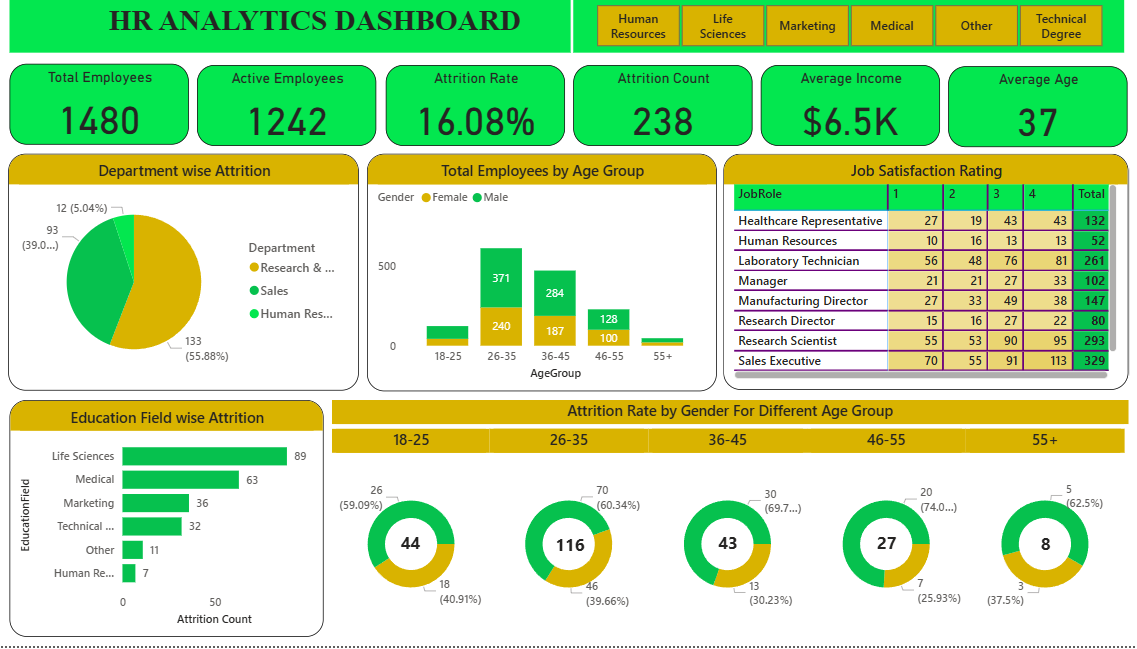

Layout of this report page (visuals, bound fields, positions):
{"tool":"powerbi","page":{"name":"Dashboard","canvas":[1280,720],"ordinal":0},"visuals":[{"type":"textbox","box":[24.7,9.6,616.1,59],"z":0},{"type":"card","title":"Total Employees","fields":{"Values":["HR_Analytics.Total Employees"]},"box":[25,81,197,89.2],"z":1000},{"type":"card","title":"Active Employees","fields":{"Values":["HR_Analytics.Active Employees"]},"box":[230,83,197,89.2],"z":2000},{"type":"card","title":"Attrition Rate","fields":{"Values":["HR_Analytics.Attrition Rate (%)"]},"box":[438,83,197,89.2],"z":3000},{"type":"card","title":"Attrition Count","fields":{"Values":["HR_Analytics.Attrition Count"]},"box":[644,83,197,89.2],"z":4000},{"type":"card","title":"Average Income","fields":{"Values":["HR_Analytics.Average Monthly Income"]},"box":[850,83,197,89.2],"z":5000},{"type":"card","title":"Average Age","fields":{"Values":["HR_Analytics.Average Age"]},"box":[1055,83.7,197,89.2],"z":6000},{"type":"pieChart","title":"Department wise Attrition","fields":{"Category":["HR_Analytics.Department"],"Y":["HR_Analytics.Attrition Count"]},"box":[24,180,385,260],"z":7000},{"type":"barChart","title":"Education Field wise Attrition","fields":{"Category":["HR_Analytics.EducationField"],"Y":["HR_Analytics.Attrition Count"]},"box":[24.7,450,345,260],"z":8000},{"type":"columnChart","title":"Total Employees by Age Group","fields":{"Category":["HR_Analytics.AgeGroup"],"Y":["HR_Analytics.Total Employees"],"Series":["HR_Analytics.Gender"]},"box":[417,180,384.2,260.7],"z":9000},{"type":"donutChart","title":"18-25","fields":{"Category":["HR_Analytics.Gender"],"Y":["HR_Analytics.Attrition Count"],"Series":["HR_Analytics.AgeGroup"]},"box":[378.7,481.6,174,231.9],"z":10000},{"type":"pivotTable","title":"Job Satisfaction Rating","fields":{"Rows":["HR_Analytics.JobRole"],"Values":["HR_Analytics.Total Employees"],"Columns":["HR_Analytics.JobSatisfaction"]},"box":[808.2,180,444.6,259.3],"z":11000},{"type":"textbox","title":"Attrition Rate by Gender For Different Age Group","box":[378.7,450.1,874.1,31.6],"z":12000},{"type":"donutChart","title":"26-35","fields":{"Category":["HR_Analytics.Gender"],"Y":["HR_Analytics.Attrition Count"],"Series":["HR_Analytics.AgeGroup"]},"box":[551.6,481.6,174.3,231.9],"z":13000},{"type":"donutChart","title":"36-45","fields":{"Category":["HR_Analytics.Gender"],"Y":["HR_Analytics.Attrition Count"],"Series":["HR_Analytics.AgeGroup"]},"box":[725.9,481.6,174.3,231.9],"z":14000},{"type":"donutChart","title":"55+","fields":{"Category":["HR_Analytics.Gender"],"Y":["HR_Analytics.Attrition Count"],"Series":["HR_Analytics.AgeGroup"]},"box":[1074.4,481.6,174.3,231.9],"z":15000},{"type":"card","fields":{"Values":["HR_Analytics.Attrition Count"]},"box":[448.7,587.3,32.9,42.5],"z":16000},{"type":"card","fields":{"Values":["HR_Analytics.Attrition Count"]},"box":[797.3,587.3,32.9,42.5],"z":17000},{"type":"donutChart","title":"46-55","fields":{"Category":["HR_Analytics.Gender"],"Y":["HR_Analytics.Attrition Count"],"Series":["HR_Analytics.AgeGroup"]},"box":[900.2,481.6,174.3,231.9],"z":18000},{"type":"card","fields":{"Values":["HR_Analytics.Attrition Count"]},"box":[971.5,587.3,32.9,42.5],"z":19000},{"type":"card","fields":{"Values":["HR_Analytics.Attrition Count"]},"box":[618.9,594.2,42.5,32.9],"z":20000},{"type":"card","fields":{"Values":["HR_Analytics.Attrition Count"]},"box":[1145.8,588.7,32.9,42.5],"z":21000},{"type":"slicer","fields":{"Values":["HR_Analytics.EducationField"]},"box":[643.6,9.6,605.1,59],"z":22000}]}

Visuals, with their boxes in screenshot pixels (x1, y1, x2, y2), scaled from the page's 1280x720 canvas onto the 1137x649 screenshot:
textbox: (left=22, top=9, right=569, bottom=62)
"Total Employees" card: (left=22, top=73, right=197, bottom=153)
"Active Employees" card: (left=204, top=75, right=379, bottom=155)
"Attrition Rate" card: (left=389, top=75, right=564, bottom=155)
"Attrition Count" card: (left=572, top=75, right=747, bottom=155)
"Average Income" card: (left=755, top=75, right=930, bottom=155)
"Average Age" card: (left=937, top=75, right=1112, bottom=156)
"Department wise Attrition" pieChart: (left=21, top=162, right=363, bottom=397)
"Education Field wise Attrition" barChart: (left=22, top=406, right=328, bottom=640)
"Total Employees by Age Group" columnChart: (left=370, top=162, right=712, bottom=397)
"18-25" donutChart: (left=336, top=434, right=491, bottom=643)
"Job Satisfaction Rating" pivotTable: (left=718, top=162, right=1113, bottom=396)
"Attrition Rate by Gender For Different Age Group" textbox: (left=336, top=406, right=1113, bottom=434)
"26-35" donutChart: (left=490, top=434, right=645, bottom=643)
"36-45" donutChart: (left=645, top=434, right=800, bottom=643)
"55+" donutChart: (left=954, top=434, right=1109, bottom=643)
card - HR_Analytics.Attrition Count: (left=399, top=529, right=428, bottom=568)
card - HR_Analytics.Attrition Count: (left=708, top=529, right=737, bottom=568)
"46-55" donutChart: (left=800, top=434, right=954, bottom=643)
card - HR_Analytics.Attrition Count: (left=863, top=529, right=892, bottom=568)
card - HR_Analytics.Attrition Count: (left=550, top=536, right=588, bottom=565)
card - HR_Analytics.Attrition Count: (left=1018, top=531, right=1047, bottom=569)
slicer - HR_Analytics.EducationField: (left=572, top=9, right=1109, bottom=62)
